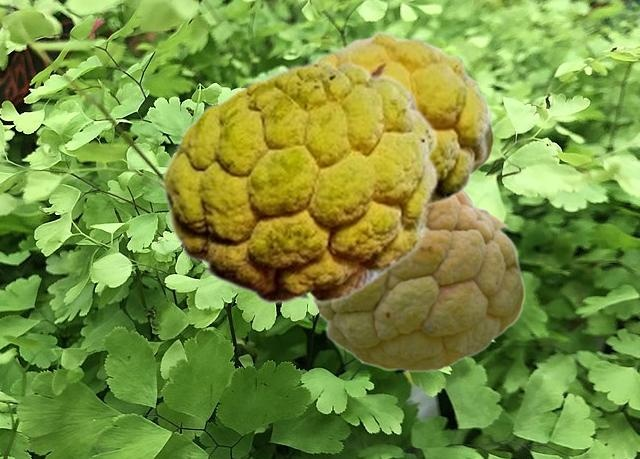atis: (160, 59, 438, 304), (312, 192, 524, 371), (313, 30, 491, 210)
